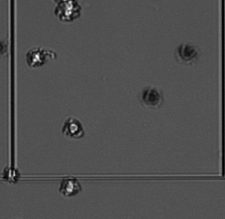Dead Cell: (143, 88, 160, 105), (178, 44, 197, 59)
Living Cell: (25, 48, 49, 67), (56, 1, 78, 21), (61, 176, 80, 197), (65, 120, 81, 137), (4, 168, 18, 181)
